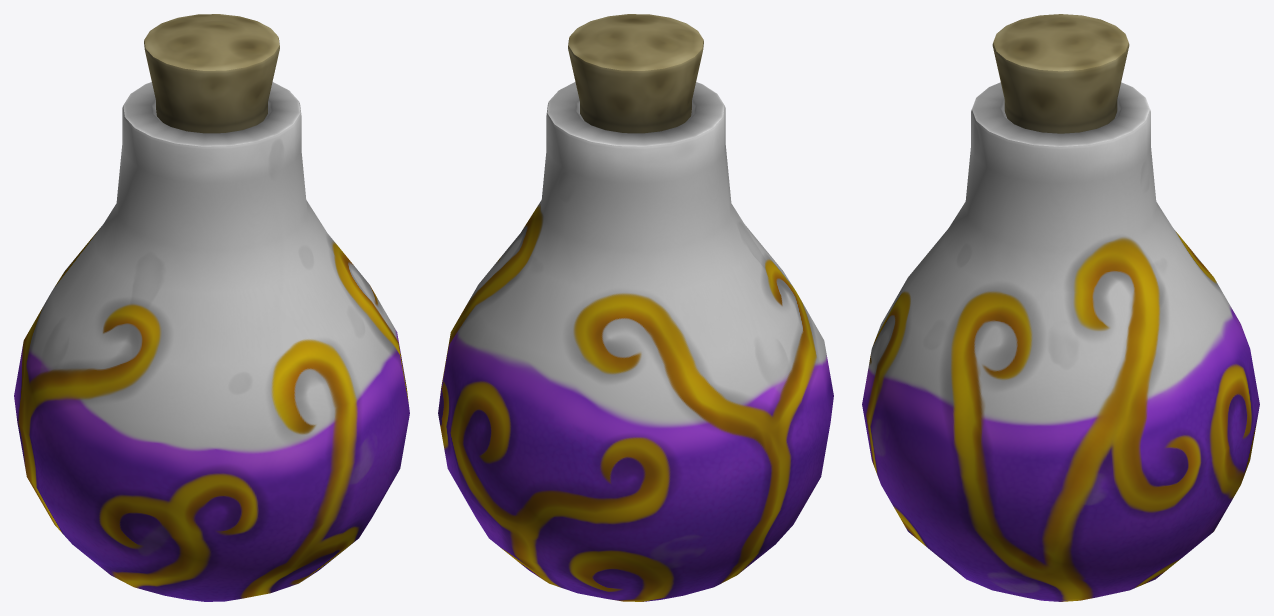
File: Potion.glb
3 views of the same model, side by side, from view 1: azimuth 30°, elevation 25°; view 2: azimuth 150°, elevation 25°; view 3: azimuth 270°, elevation 25° (orthographic).
Visible parts, largest first — view 1: Potion; view 2: Potion; view 3: Potion.
Part boxes in pixels (bbox=[...]): Potion: bbox=[14, 14, 409, 601]; Potion: bbox=[438, 14, 833, 601]; Potion: bbox=[862, 14, 1259, 601].
Size of the model in its own units: 0.4915 by 0.7543 by 0.4915.
Materials: 1 (1 with a texture image).
